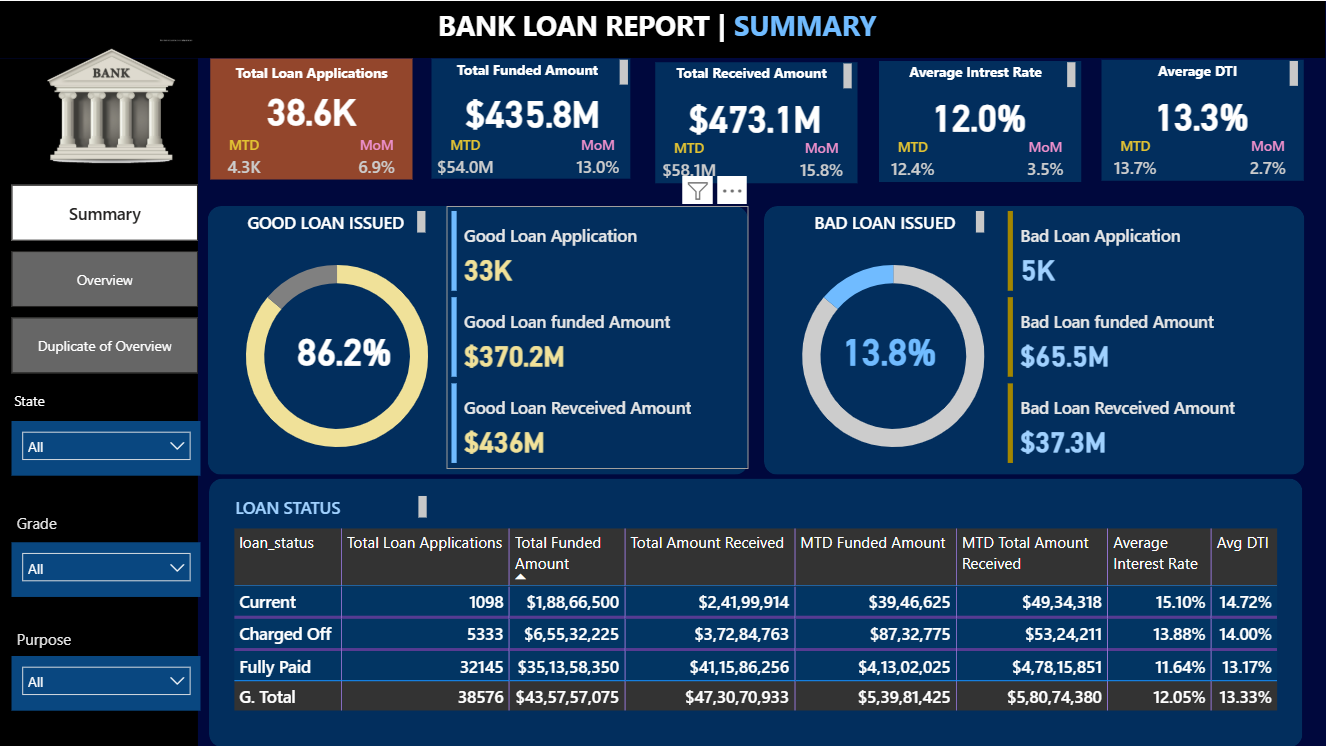

This screenshot's page, from the dashboard's own definition file:
{"tool":"powerbi","page":{"name":"Summary","canvas":[1280,720],"ordinal":0},"visuals":[{"type":"shape","box":[0,0,1280,55],"z":0},{"type":"shape","box":[417.3,55,191.9,116.2],"z":0,"group":"g2"},{"type":"shape","box":[203.6,55.4,195.4,117],"z":0,"group":"g1"},{"type":"shape","box":[1064.1,56.8,195.4,117],"z":0,"group":"g5"},{"type":"shape","box":[849.2,57.9,195.4,117],"z":0,"group":"g4"},{"type":"shape","box":[633.3,59.6,195.4,117],"z":0,"group":"g3"},{"type":"shape","box":[0,55.5,192,664.7],"z":1000},{"type":"card","fields":{"Values":["bank_loan_db loan_data.Total Funded Amount"]},"box":[417.1,77.3,195.4,55.5],"z":1000,"group":"g2"},{"type":"card","fields":{"Values":["bank_loan_db loan_data.Total Loan Applications"]},"box":[203.6,77.5,195.4,55.5],"z":1000,"group":"g1"},{"type":"card","fields":{"Values":["bank_loan_db loan_data.Avg DTI"]},"box":[1065.9,85.3,190.5,47.3],"z":1000,"group":"g5"},{"type":"card","fields":{"Values":["bank_loan_db loan_data.Average Interest Rate"]},"box":[851,86.4,190.5,47.3],"z":1000,"group":"g4"},{"type":"card","fields":{"Values":["bank_loan_db loan_data.Total Amount Received"]},"box":[635.1,88.1,190.5,47.3],"z":1000,"group":"g3"},{"type":"textbox","box":[417.1,51.4,194.2,39.2],"z":2000,"group":"g2"},{"type":"textbox","box":[1064.1,52.9,194.2,39.2],"z":2000,"group":"g5"},{"type":"textbox","box":[849.2,54,194.2,39.2],"z":2000,"group":"g4"},{"type":"textbox","box":[203.6,55.4,195.4,31.4],"z":2000,"group":"g1"},{"type":"textbox","box":[633.3,55.7,194.2,39.2],"z":2000,"group":"g3"},{"type":"shape","box":[201.4,197.3,521.6,259.5],"z":2000},{"type":"card","title":"MTD","fields":{"Values":["bank_loan_db loan_data.MTD Funded Amount"]},"box":[416.2,128.4,67.8,43.3],"z":3000,"group":"g2"},{"type":"card","title":"MTD","fields":{"Values":["bank_loan_db loan_data.MTD Loan Applications"]},"box":[202.7,128.5,67.8,43.3],"z":3000,"group":"g1"},{"type":"card","title":"MTD","fields":{"Values":["bank_loan_db loan_data.MTD DTI"]},"box":[1063.2,129.9,67.8,43.3],"z":3000,"group":"g5"},{"type":"card","title":"MTD","fields":{"Values":["bank_loan_db loan_data.MTD Intrest Rate"]},"box":[848.3,131,67.8,43.3],"z":3000,"group":"g4"},{"type":"card","title":"MTD","fields":{"Values":["bank_loan_db loan_data.MTD Total Amount Received"]},"box":[632.4,132.7,67.8,43.3],"z":3000,"group":"g3"},{"type":"card","fields":{"Values":["bank_loan_db loan_data.Good Loan Percentage"]},"box":[268.9,312.2,128.4,47.3],"z":3000},{"type":"card","title":"MoM","fields":{"Values":["bank_loan_db loan_data.MoM Total Funded Amount"]},"box":[544.6,128.4,67.8,43.3],"z":4000,"group":"g2"},{"type":"card","title":"MoM","fields":{"Values":["bank_loan_db loan_data.MoM Loan Application"]},"box":[331.1,128.5,67.8,43.3],"z":4000,"group":"g1"},{"type":"card","title":"MoM","fields":{"Values":["bank_loan_db loan_data.MoM Avg DTI"]},"box":[1191.6,129.9,67.8,43.3],"z":4000,"group":"g5"},{"type":"card","title":"MoM","fields":{"Values":["bank_loan_db loan_data.MoM Avg Int Rate"]},"box":[976.7,131,67.8,43.3],"z":4000,"group":"g4"},{"type":"card","title":"MoM","fields":{"Values":["bank_loan_db loan_data.MoM Total Amount Recieved"]},"box":[760.8,132.7,67.8,43.3],"z":4000,"group":"g3"},{"type":"textbox","box":[221.6,197.3,194.6,31.1],"z":4000},{"type":"textbox","box":[418.6,0,441.6,49.5],"z":5000},{"type":"group","id":"g1","title":"Group 1","box":[202.7,55.4,197.3,117.6],"z":6000},{"type":"group","id":"g2","title":"Group 1","box":[416.2,51.4,196.4,120.3],"z":7000},{"type":"group","id":"g3","title":"Group 1","box":[632.4,55.7,196.4,120.9],"z":8000},{"type":"group","id":"g4","title":"Group 1","box":[848.3,54,196.4,120.9],"z":9000},{"type":"group","id":"g5","title":"Group 1","box":[1063.2,52.9,196.4,120.9],"z":10000},{"type":"shape","box":[737.8,197.3,521.6,259.5],"z":11000},{"type":"donutChart","fields":{"Category":["bank_loan_db loan_data.Good vs Bad Loan"],"Y":["bank_loan_db loan_data.Total Loan Applications"]},"box":[201.4,228.4,250,229.7],"z":12000},{"type":"shape","box":[202.7,460.8,1055.4,259.5],"z":13000},{"type":"cardVisual","fields":{"Data":["bank_loan_db loan_data.Good Loan Application","bank_loan_db loan_data.Good Loan funded Amount","bank_loan_db loan_data.Good Loan Revceived Amount"]},"box":[432.4,197.3,290.5,254.1],"z":14000},{"type":"tableEx","fields":{"Values":["bank_loan_db loan_data.loan_status","bank_loan_db loan_data.Total Loan Applications","bank_loan_db loan_data.Total Funded Amount","bank_loan_db loan_data.Total Amount Received","bank_loan_db loan_data.MTD Funded Amount","bank_loan_db loan_data.MTD Total Amount Received","bank_loan_db loan_data.Average Interest Rate","bank_loan_db loan_data.Avg DTI"]},"box":[220.3,504.1,1018.9,201.4],"z":15000},{"type":"donutChart","fields":{"Category":["bank_loan_db loan_data.Good vs Bad Loan"],"Y":["bank_loan_db loan_data.Total Loan Applications"]},"box":[737.8,228.4,250,229.7],"z":16000},{"type":"textbox","box":[760.8,197.3,194.6,31.1],"z":17000},{"type":"card","fields":{"Values":["bank_loan_db loan_data.Bad Loan Percentage"]},"box":[794.6,312.2,128.4,47.3],"z":18000},{"type":"slicer","fields":{"Values":["bank_loan_db loan_data.address_state"]},"box":[12.2,405.4,182.4,52.7],"z":19000},{"type":"textbox","box":[9.5,371.6,185.1,31.1],"z":20000},{"type":"cardVisual","fields":{"Data":["bank_loan_db loan_data.Bad Loan Application","bank_loan_db loan_data.Bad Loan funded Amount","bank_loan_db loan_data.Bad Loan Revceived Amount"]},"box":[968.9,197.3,290.5,254.1],"z":21000},{"type":"textbox","box":[223,473,194.6,31.1],"z":22000},{"type":"slicer","fields":{"Values":["bank_loan_db loan_data.purpose"]},"box":[12.2,632.4,182.4,52.7],"z":23000},{"type":"slicer","fields":{"Values":["bank_loan_db loan_data.grade"]},"box":[12.2,523,182.4,52.7],"z":24000},{"type":"textbox","box":[12.2,489.2,185.1,31.1],"z":25000},{"type":"textbox","box":[12.2,601.4,185.1,31.1],"z":26000},{"type":"image","box":[21.6,31.7,170.2,139.9],"z":26001},{"type":"pageNavigator","box":[11.5,177.5,180.3,183.2],"z":26002}]}

Visuals, with their boxes in screenshot pixels (x1, y1, x2, y2), scaled from the page's 1280x720 canvas onto the 1326x746 screenshot:
shape: <box>0,0,1325,57</box>
shape: <box>432,57,631,177</box>
shape: <box>211,57,413,179</box>
shape: <box>1102,59,1305,180</box>
shape: <box>880,60,1082,181</box>
shape: <box>656,62,858,183</box>
shape: <box>0,58,199,745</box>
card - bank_loan_db loan_data.Total Funded Amount: <box>432,80,635,138</box>
card - bank_loan_db loan_data.Total Loan Applications: <box>211,80,413,138</box>
card - bank_loan_db loan_data.Avg DTI: <box>1104,88,1302,137</box>
card - bank_loan_db loan_data.Average Interest Rate: <box>882,90,1079,139</box>
card - bank_loan_db loan_data.Total Amount Received: <box>658,91,855,140</box>
textbox: <box>432,53,633,94</box>
textbox: <box>1102,55,1304,95</box>
textbox: <box>880,56,1081,97</box>
textbox: <box>211,57,413,90</box>
textbox: <box>656,58,857,98</box>
shape: <box>209,204,749,473</box>
"MTD" card: <box>431,133,501,178</box>
"MTD" card: <box>210,133,280,178</box>
"MTD" card: <box>1101,135,1172,179</box>
"MTD" card: <box>879,136,949,181</box>
"MTD" card: <box>655,137,725,182</box>
card - bank_loan_db loan_data.Good Loan Percentage: <box>279,323,412,372</box>
"MoM" card: <box>564,133,634,178</box>
"MoM" card: <box>343,133,413,178</box>
"MoM" card: <box>1234,135,1305,179</box>
"MoM" card: <box>1012,136,1082,181</box>
"MoM" card: <box>788,137,858,182</box>
textbox: <box>230,204,431,237</box>
textbox: <box>434,0,891,51</box>
"Group 1" group: <box>210,57,414,179</box>
"Group 1" group: <box>431,53,635,178</box>
"Group 1" group: <box>655,58,859,183</box>
"Group 1" group: <box>879,56,1082,181</box>
"Group 1" group: <box>1101,55,1305,180</box>
shape: <box>764,204,1305,473</box>
donutChart - bank_loan_db loan_data.Good vs Bad Loan x bank_loan_db loan_data.Total Loan Applications: <box>209,237,468,475</box>
shape: <box>210,477,1303,745</box>
cardVisual - bank_loan_db loan_data.Good Loan Application x bank_loan_db loan_data.Good Loan funded Amount: <box>448,204,749,468</box>
tableEx - bank_loan_db loan_data.loan_status x bank_loan_db loan_data.Total Loan Applications: <box>228,522,1284,731</box>
donutChart - bank_loan_db loan_data.Good vs Bad Loan x bank_loan_db loan_data.Total Loan Applications: <box>764,237,1023,475</box>
textbox: <box>788,204,990,237</box>
card - bank_loan_db loan_data.Bad Loan Percentage: <box>823,323,956,372</box>
slicer - bank_loan_db loan_data.address_state: <box>13,420,202,475</box>
textbox: <box>10,385,202,417</box>
cardVisual - bank_loan_db loan_data.Bad Loan Application x bank_loan_db loan_data.Bad Loan funded Amount: <box>1004,204,1305,468</box>
textbox: <box>231,490,433,522</box>
slicer - bank_loan_db loan_data.purpose: <box>13,655,202,710</box>
slicer - bank_loan_db loan_data.grade: <box>13,542,202,596</box>
textbox: <box>13,507,204,539</box>
textbox: <box>13,623,204,655</box>
image: <box>22,33,199,178</box>
pageNavigator: <box>12,184,199,374</box>
